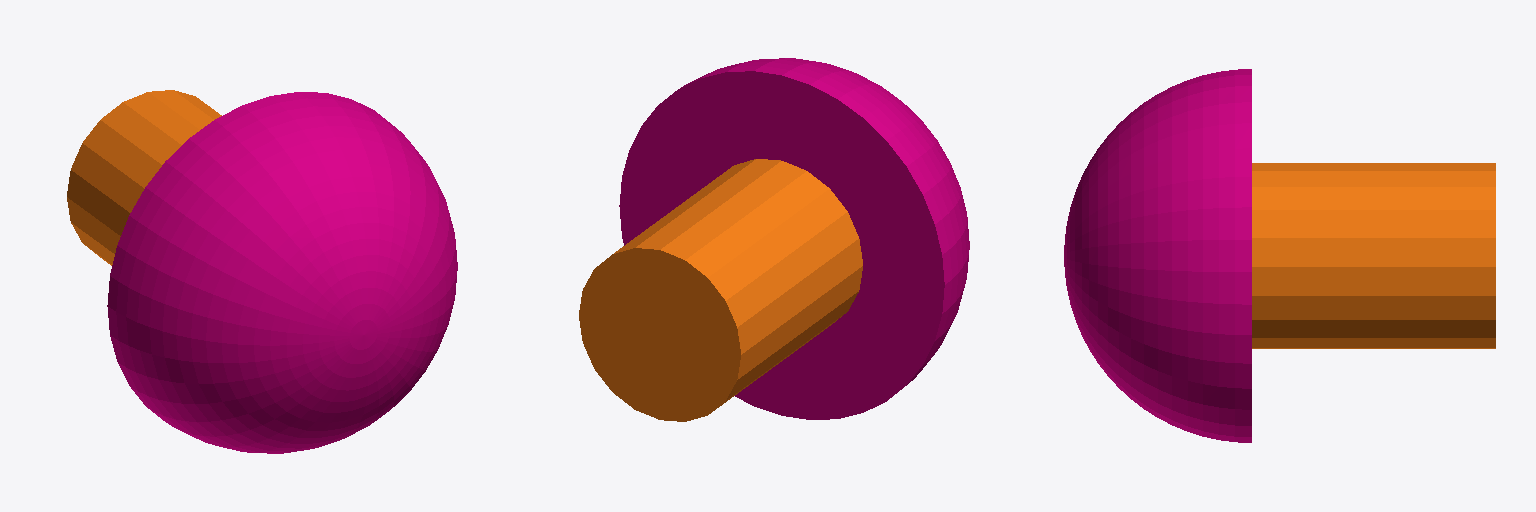
Rendered from tinker.obj.
3 renders of one model, left to right at view 1: azimuth 30°, elevation 25°; view 2: azimuth 150°, elevation 25°; view 3: azimuth 270°, elevation 25°, orthographic.
Visible parts, largest first — view 1: obj_0; view 2: obj_0; view 3: obj_0.
Part boxes in pixels (x1,y1,x2,y2): obj_0: (67,90,457,453); obj_0: (579,58,969,421); obj_0: (1064,69,1495,442).
Size of the model in its own units: 20 by 20 by 23.